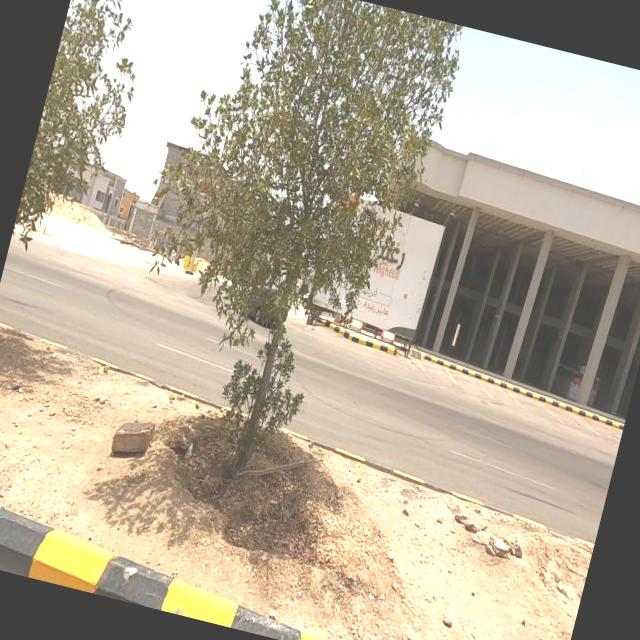debris: (79, 372, 193, 512)
